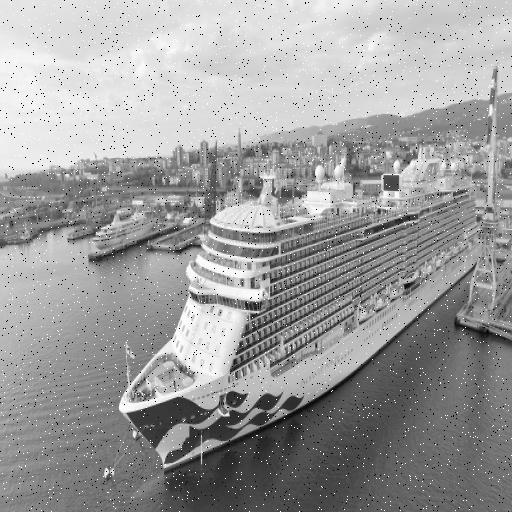cruises: (120, 138, 485, 484)
